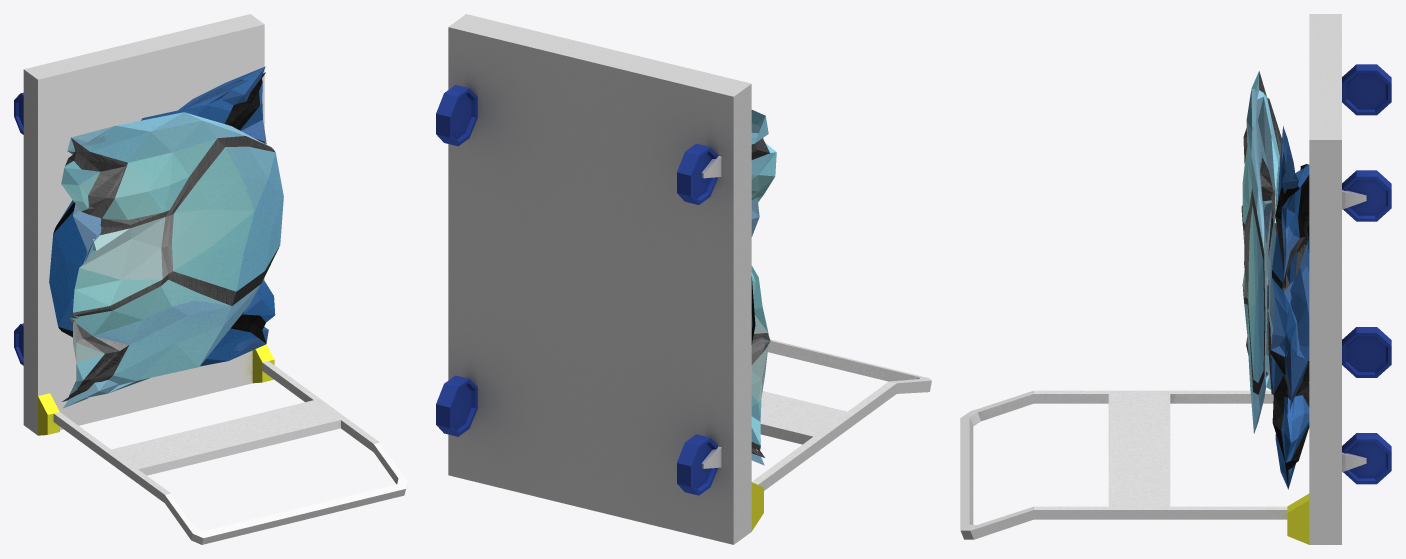
File: trolleymin.obj
3 views of the same model, side by side, from view 1: azimuth 30°, elevation 25°; view 2: azimuth 150°, elevation 25°; view 3: azimuth 270°, elevation 25° (orthographic). The views are drawn at different scales.
Parts seen in each view (by area): view 1: trolley_Cart_Cube.005, squash.001_Icosphere.005, squash_Icosphere.002; view 2: trolley_Cart_Cube.005, squash.001_Icosphere.005; view 3: trolley_Cart_Cube.005, squash_Icosphere.002, squash.001_Icosphere.005.
Boxes of the visible parts, x1,y1,x2,y2 form: trolley_Cart_Cube.005: (14, 14, 407, 544); squash.001_Icosphere.005: (61, 112, 283, 408); squash_Icosphere.002: (49, 66, 275, 366); trolley_Cart_Cube.005: (436, 14, 931, 544); squash.001_Icosphere.005: (751, 110, 776, 465); trolley_Cart_Cube.005: (960, 14, 1391, 544); squash_Icosphere.002: (1270, 126, 1309, 489); squash.001_Icosphere.005: (1241, 71, 1281, 433).
Bounding box in the file's own units: 0.603 × 0.9029 × 0.8679.
Materials: 3 (3 with a texture image).
